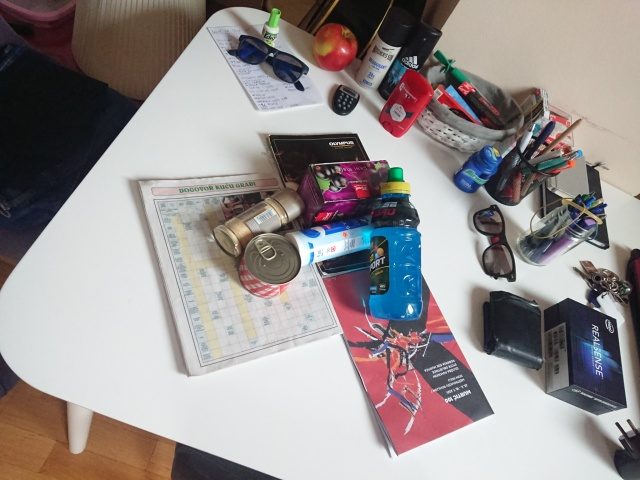Franck Black Currant Tea 60g: (291, 159, 406, 232)
Kotanyi Garlic Granules 70g: (210, 185, 308, 260)
Podravka Luncheon Meat 150g: (236, 231, 303, 300)
Solana Pag Fine Sea Salt 250g: (283, 211, 391, 269)
Vindi Iso Sport Forest Strawberries 500mL: (366, 166, 426, 323)
